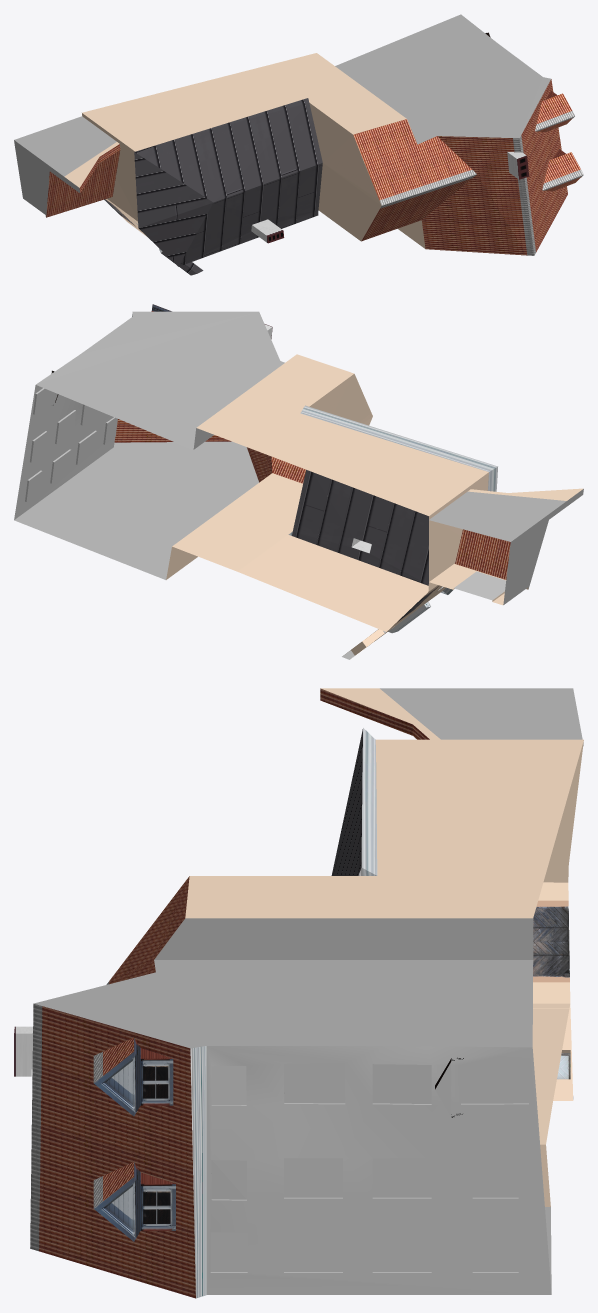
The model's file is Toom-Kooli_3.obj.
3 renders of one model, top to bottom at view 1: azimuth 30°, elevation 25°; view 2: azimuth 150°, elevation 25°; view 3: azimuth 270°, elevation 25°, orthographic. The views are drawn at different scales.
Visible parts, largest first — view 1: Toom_Kooli_3; view 2: Toom_Kooli_3; view 3: Toom_Kooli_3.
Boxes of the visible parts, x1,y1,x2,y2 form: Toom_Kooli_3: (14, 14, 583, 275); Toom_Kooli_3: (14, 304, 583, 659); Toom_Kooli_3: (14, 688, 583, 1298).
Size of the model in its own units: 32.57 by 11.52 by 18.28.
